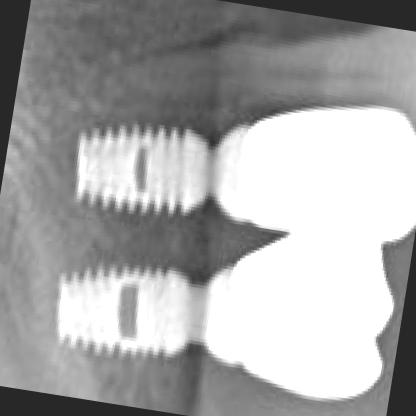Bicon: (44, 255, 202, 367), (65, 115, 216, 220)
